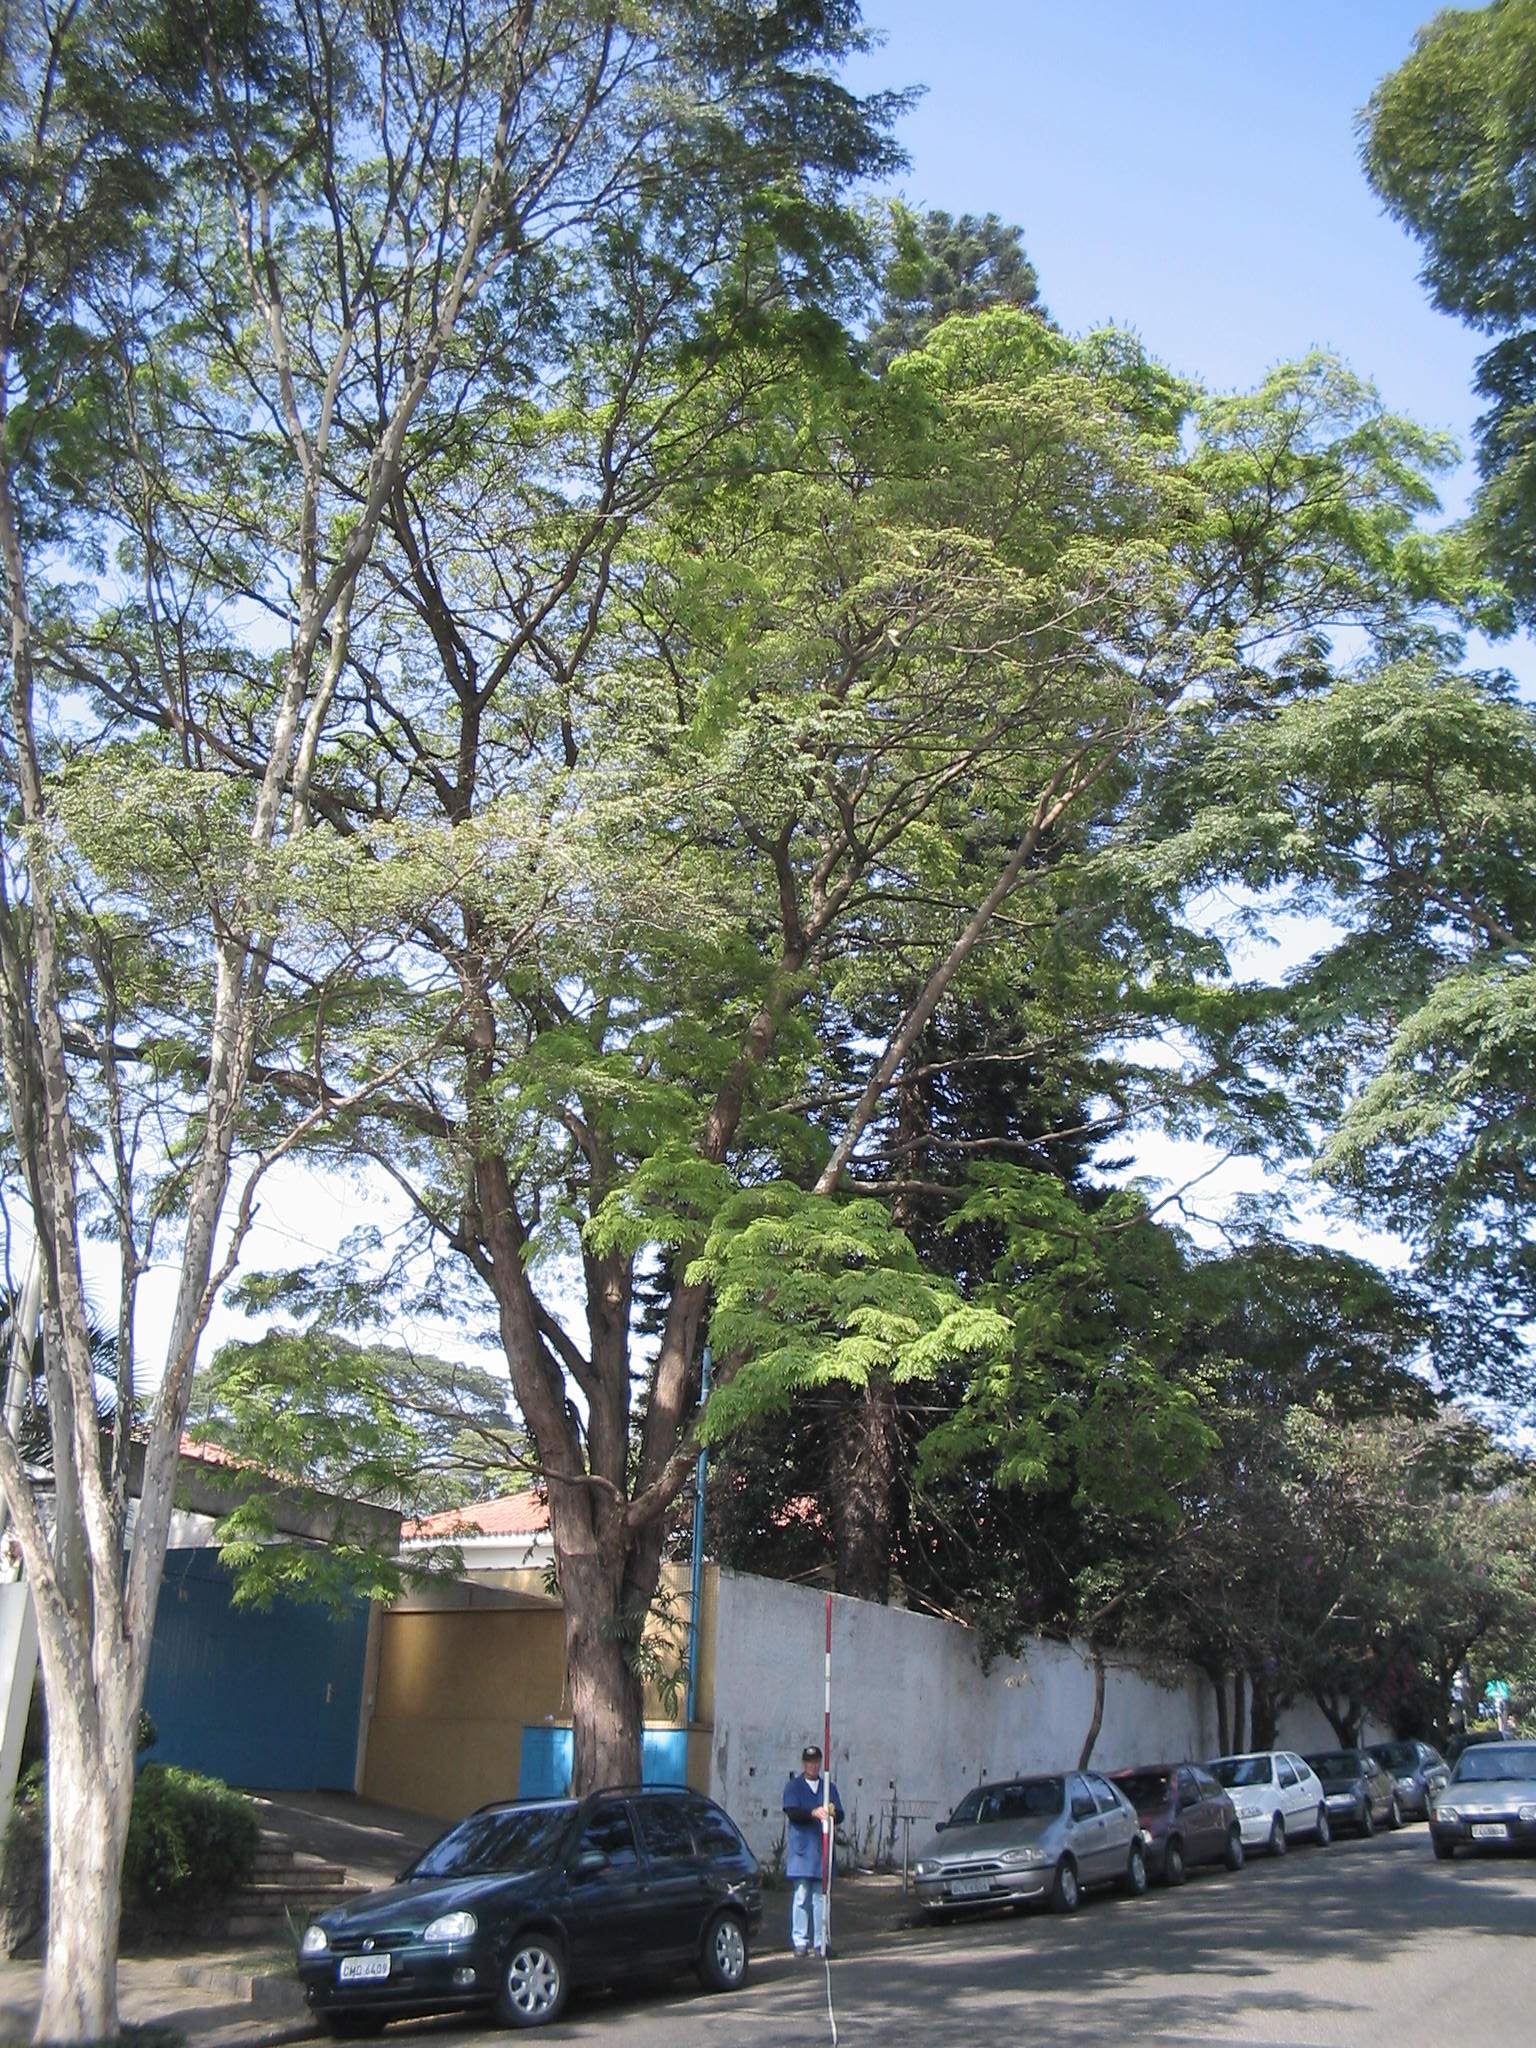crown: (106, 319, 1483, 1530), (11, 11, 907, 547)
stem: (516, 1601, 684, 1961), (11, 1698, 171, 2040)
stick: (802, 1590, 845, 1961)
tree: (98, 314, 1489, 1964), (2, 3, 912, 2046)
